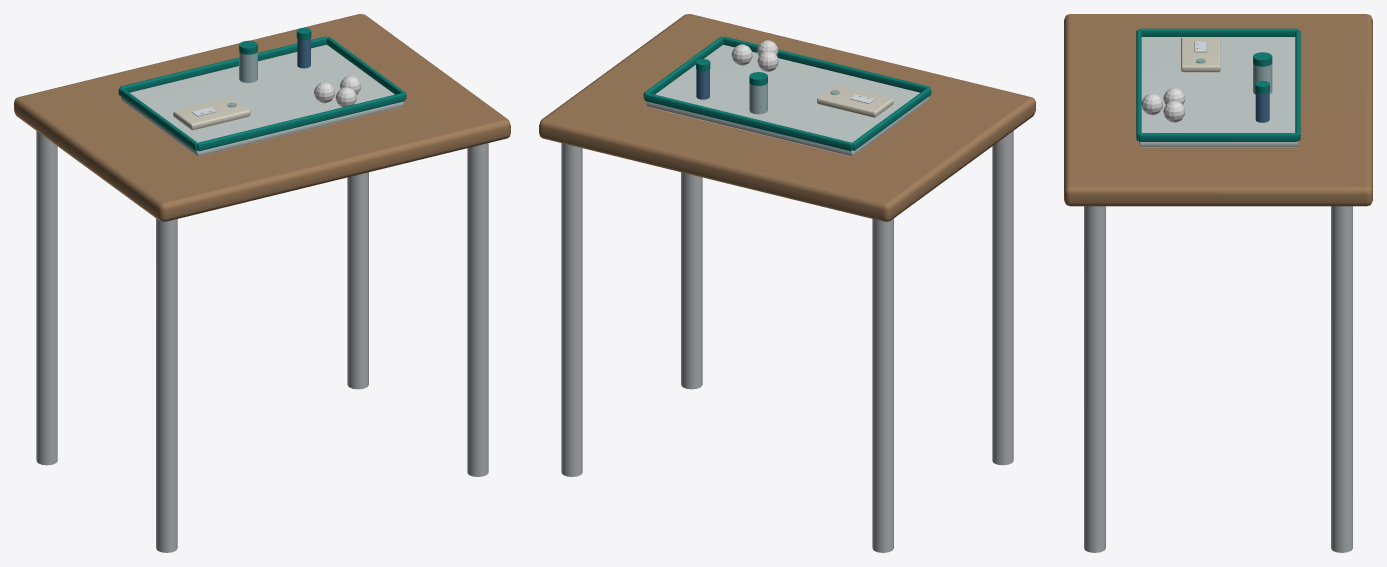
Rendered from prop_mesa_v002.glb.
The picture shows the model from 3 angles, left to right: view 1: azimuth 30°, elevation 25°; view 2: azimuth 150°, elevation 25°; view 3: azimuth 270°, elevation 25°; orthographic projection. The views are drawn at different scales.
Visible parts, largest first — view 1: FarmaPalette.002; view 2: FarmaPalette.002; view 3: FarmaPalette.002.
Part boxes in pixels (<box>): FarmaPalette.002: <box>14,14,510,552</box>; FarmaPalette.002: <box>539,14,1035,552</box>; FarmaPalette.002: <box>1064,14,1372,552</box>.
Bounding box in the file's own units: 0.95 × 1.04 × 0.7.
2 materials, 1 textured.
